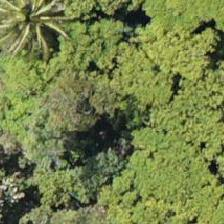coconut_tree: (0, 0, 76, 62)
